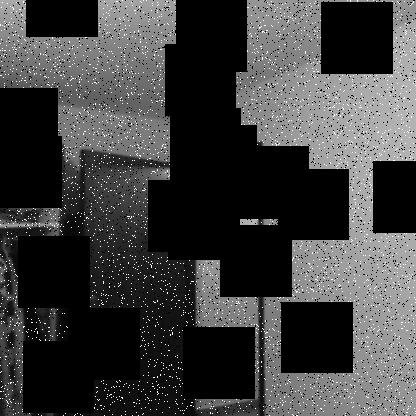Porte: (76, 142, 264, 415)
